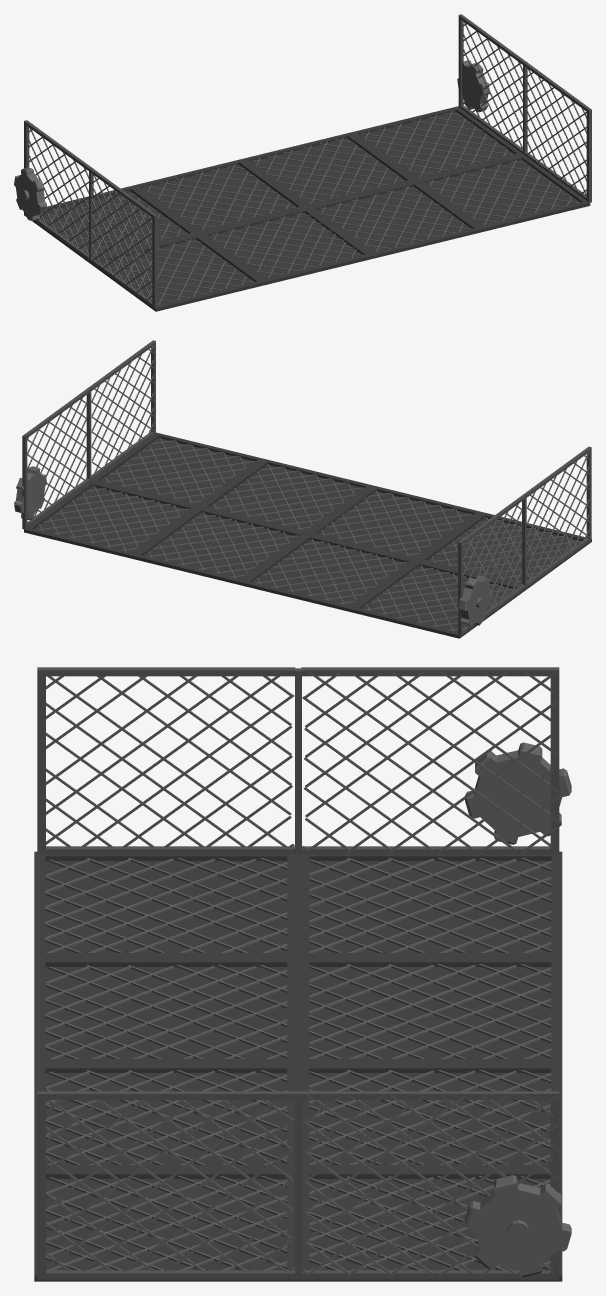
Rendered from Elevator.fbx.
3 renders of one model, top to bottom at view 1: azimuth 30°, elevation 25°; view 2: azimuth 150°, elevation 25°; view 3: azimuth 270°, elevation 25°, orthographic. The views are drawn at different scales.
Parts seen in each view (by area): view 1: Elevator, Cog_L, Cog_R; view 2: Elevator, Cog_L, Cog_R; view 3: Elevator, Cog_R, Cog_L.
Part boxes in pixels (left/top/right/bottom): Elevator: left=24, top=14, right=591, bottom=311; Cog_L: left=14, top=167, right=46, bottom=221; Cog_R: left=457, top=60, right=489, bottom=112; Elevator: left=22, top=340, right=591, bottom=638; Cog_L: left=458, top=575, right=491, bottom=627; Cog_R: left=14, top=466, right=46, bottom=519; Elevator: left=34, top=667, right=562, bottom=1281; Cog_R: left=465, top=1175, right=571, bottom=1277; Cog_L: left=465, top=742, right=571, bottom=844.
Size of the model in its own units: 23.95 by 4.77 by 12.21.
